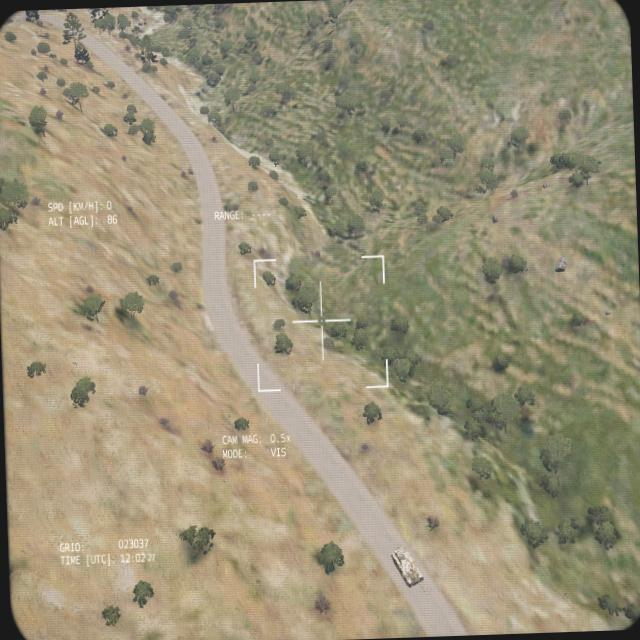tank: (390, 542, 426, 594)
